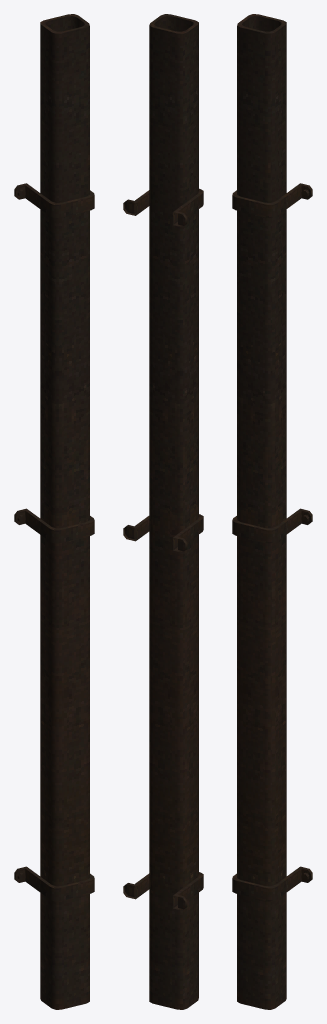
The model's file is rainwater_downpipe_hl_1_middle.glb.
3 views of the same model, side by side, from view 1: azimuth 30°, elevation 25°; view 2: azimuth 150°, elevation 25°; view 3: azimuth 330°, elevation 25° (orthographic).
Parts seen in each view (by area): view 1: rainwater_downpipe_hl_1_middle; view 2: rainwater_downpipe_hl_1_middle; view 3: rainwater_downpipe_hl_1_middle.
Boxes of the visible parts, <box> form: rainwater_downpipe_hl_1_middle: <box>14,14,94,1009</box>; rainwater_downpipe_hl_1_middle: <box>123,14,203,1009</box>; rainwater_downpipe_hl_1_middle: <box>232,14,312,1009</box>.
Size of the model in its own units: 0.2 by 3 by 0.17.
1 material, 1 textured.
